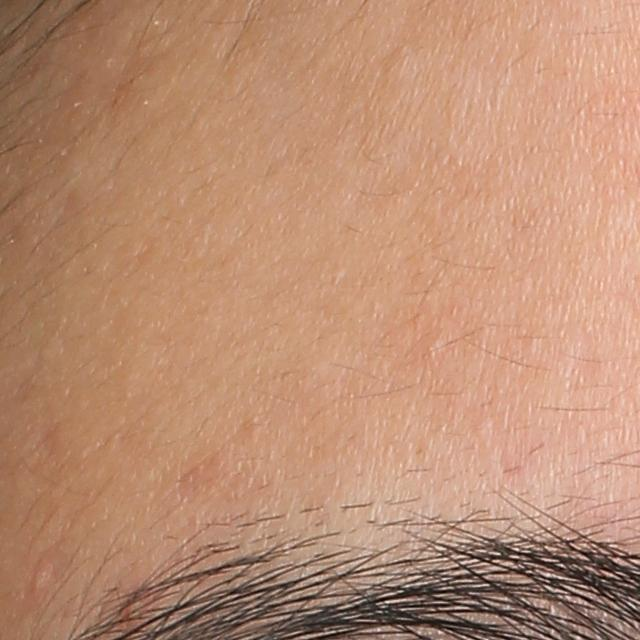papule: (27, 550, 59, 603)
